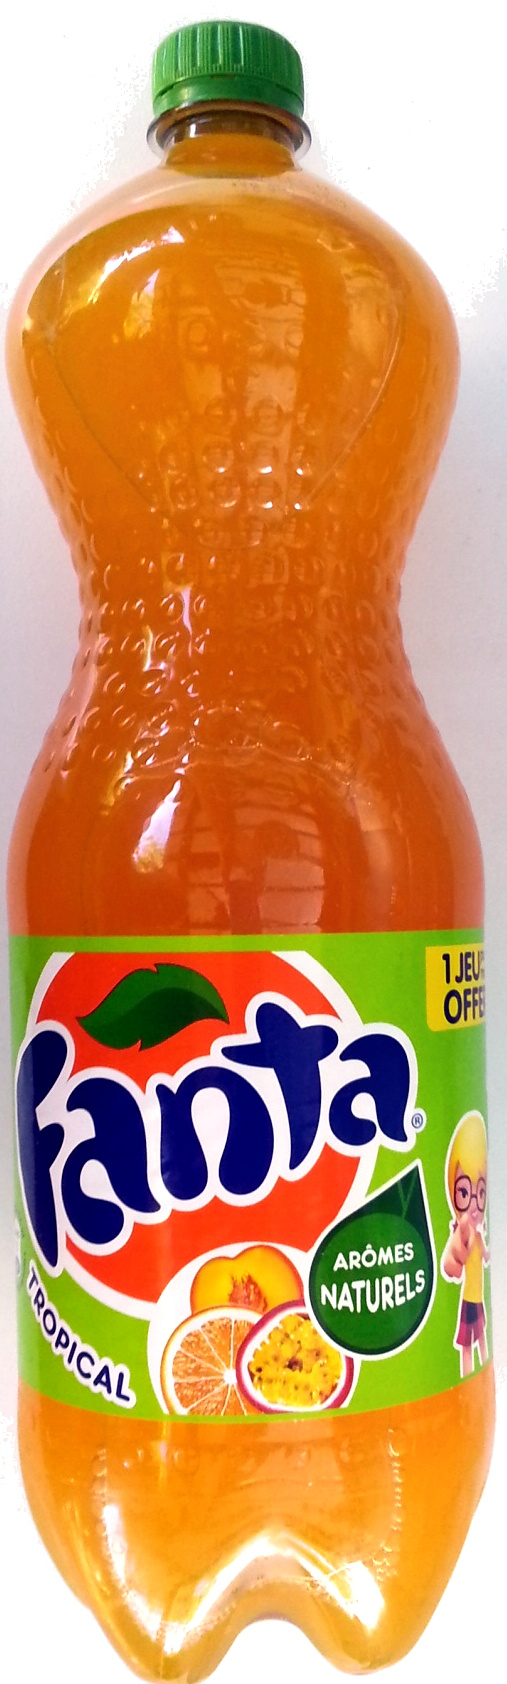Fanta: (18, 39, 481, 1666)
